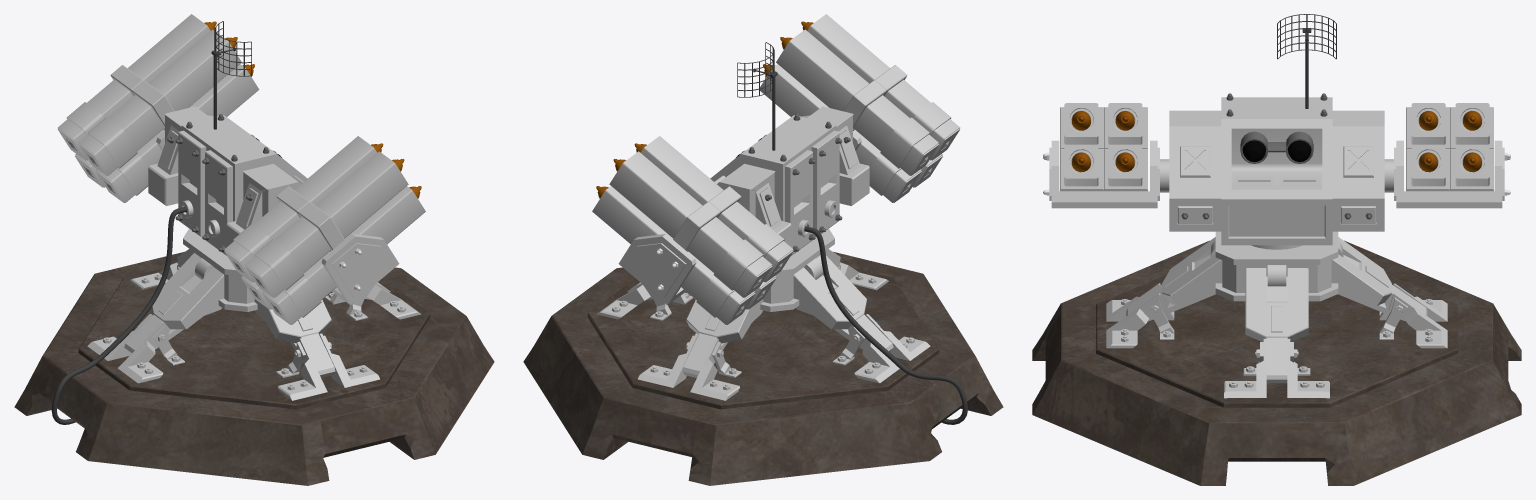
The model's file is turret.fbx.
The picture shows the model from 3 angles, left to right: view 1: azimuth 30°, elevation 25°; view 2: azimuth 150°, elevation 25°; view 3: azimuth 270°, elevation 25°; orthographic projection. The views are drawn at different scales.
Visible parts, largest first — view 1: Cube.004, Cube.001, Cube.003, Cube, Cube.002, Plane, BezierCurve, Cylinder.004, Cylinder.008; view 2: Cube.004, Cube.001, Cube.003, Cube, Cube.002, Plane, BezierCurve, Cylinder.004, Cylinder.008; view 3: Cube.004, Cube, Cube.003, Cube.001, Cube.002, Plane, Cylinder.001, Cylinder.002, Cylinder.004, Cylinder.
Boxes of the visible parts, x1,y1,x2,y2 form: Cube.004: (14, 251, 494, 485); Cube.001: (57, 14, 425, 324); Cube.003: (87, 249, 421, 400); Cube: (148, 106, 307, 256); Cube.002: (156, 115, 399, 304); Plane: (183, 228, 257, 311); BezierCurve: (51, 206, 187, 424); Cylinder.004: (211, 21, 251, 129); Cylinder.008: (167, 114, 269, 252); Cube.004: (523, 251, 1003, 485); Cube.001: (592, 14, 960, 324); Cube.003: (596, 249, 930, 400); Cube: (710, 106, 869, 256); Cube.002: (618, 115, 861, 304); Plane: (760, 228, 834, 311); BezierCurve: (804, 226, 967, 424); Cylinder.004: (737, 42, 777, 150); Cylinder.008: (748, 114, 850, 252); Cube.004: (1032, 240, 1521, 485); Cube: (1169, 97, 1384, 245); Cube.003: (1106, 237, 1447, 398); Cube.001: (1060, 103, 1493, 191); Cube.002: (1049, 140, 1504, 208); Plane: (1215, 231, 1338, 301); Cylinder.001: (1072, 111, 1481, 172); Cylinder.002: (1240, 131, 1313, 163); Cylinder.004: (1277, 14, 1336, 108); Cylinder: (1160, 159, 1393, 192).
Size of the model in its own units: 881 by 710 by 881.
